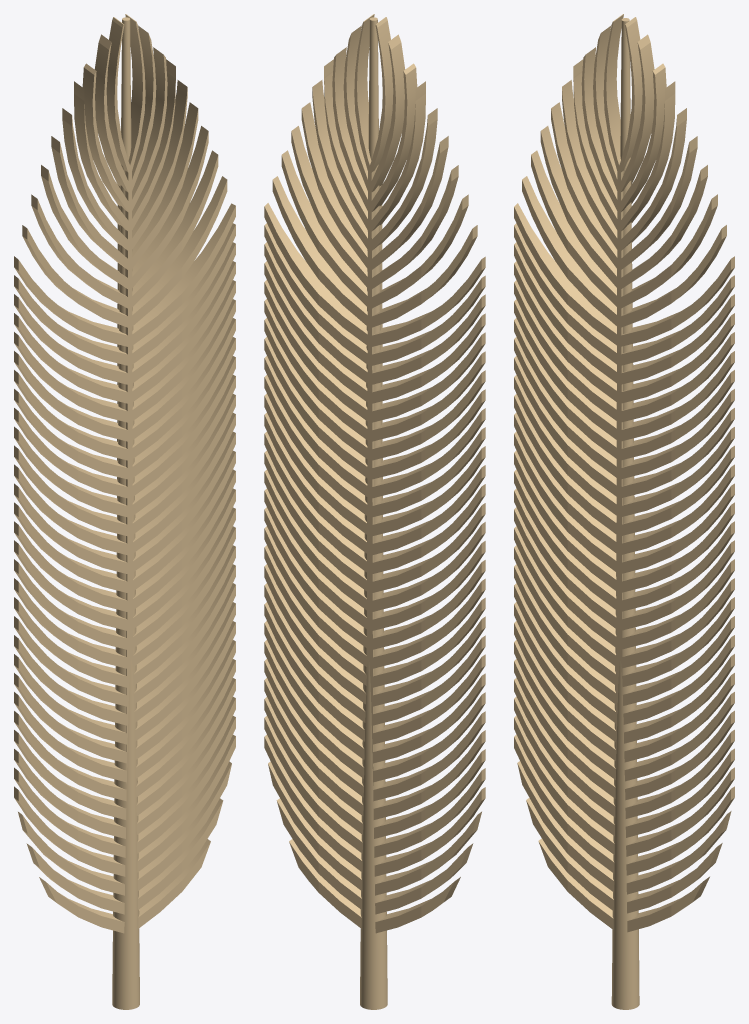
File: Feather v1.fbx
3 renders of one model, left to right at view 1: azimuth 30°, elevation 25°; view 2: azimuth 150°, elevation 25°; view 3: azimuth 330°, elevation 25°, orthographic.
Parts seen in each view (by area): view 1: Body1; view 2: Body1; view 3: Body1.
Boxes of the visible parts, x1,y1,x2,y2 form: Body1: [14, 14, 235, 1009]; Body1: [264, 14, 485, 1009]; Body1: [514, 14, 734, 1009].
Bounding box in the file's own units: 60.09 × 260 × 6.67.
